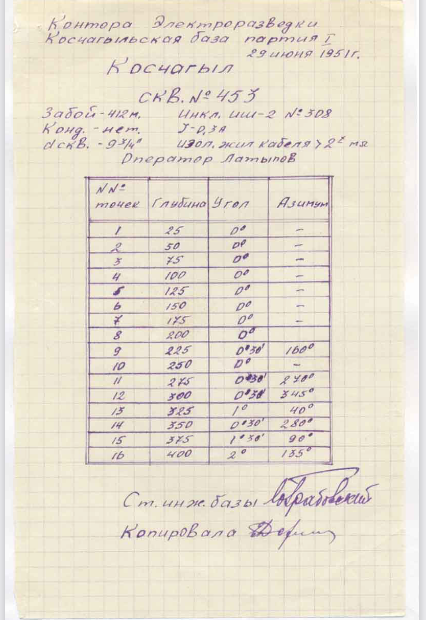Bordered: (85, 177, 331, 463)
